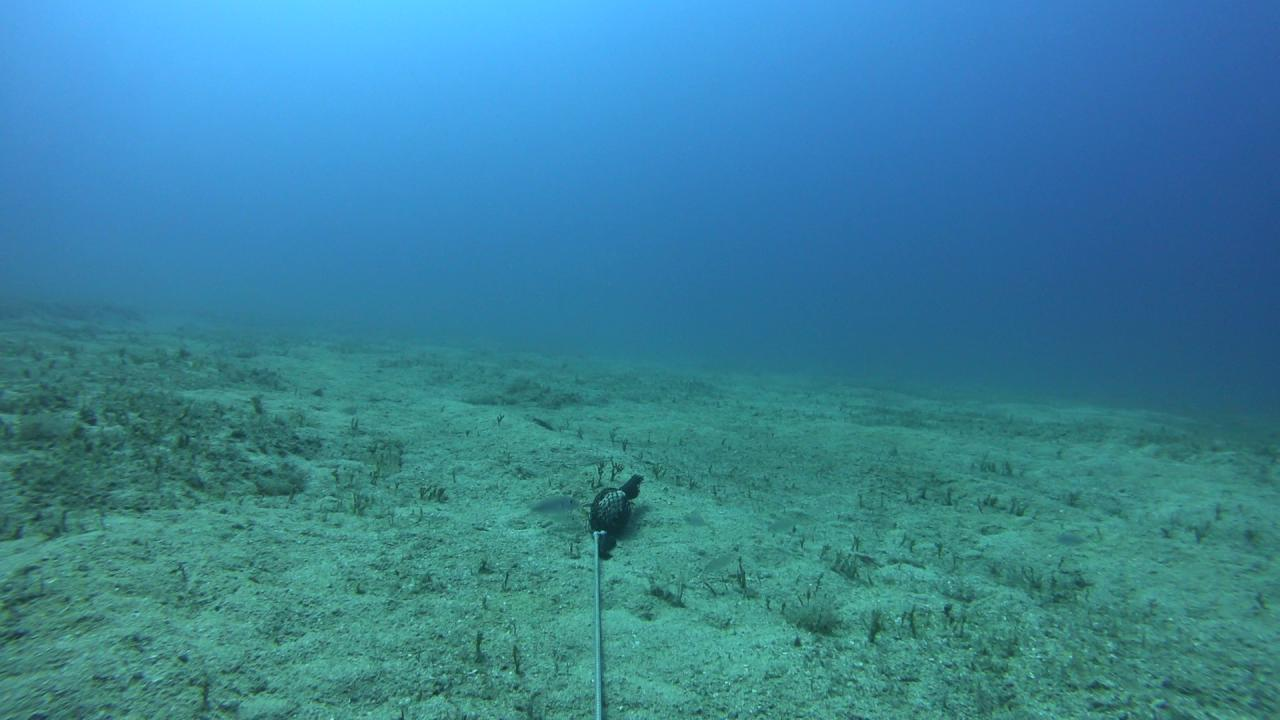pagellus: (521, 491, 580, 518)
